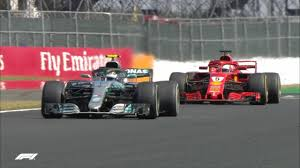FormulaOneCar: (39, 53, 181, 122), (168, 48, 284, 109)
